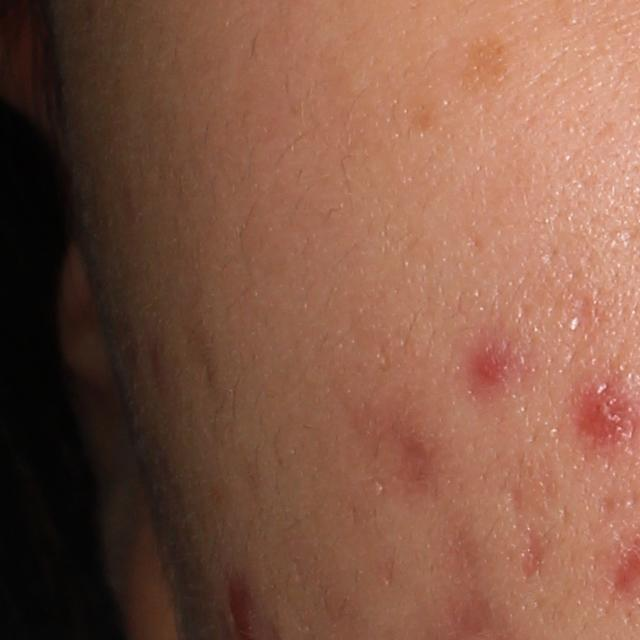atrophic_scar: (507, 464, 553, 585)
melasma: (460, 30, 513, 108)
papule: (586, 392, 625, 436), (474, 353, 504, 383)
